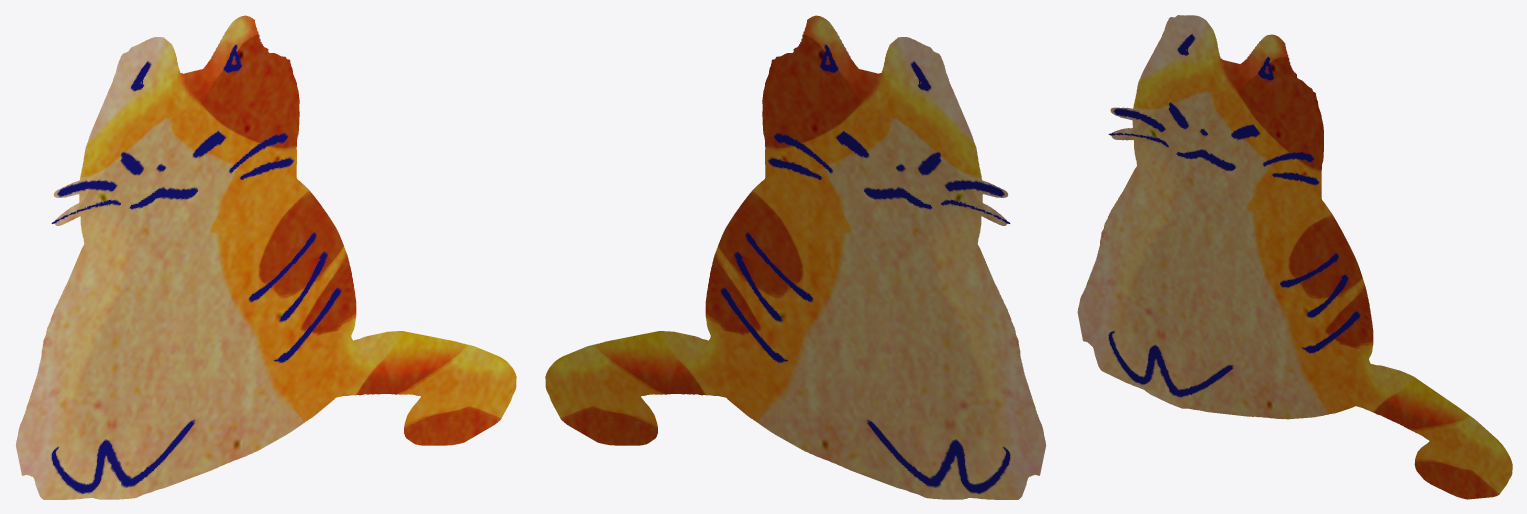
Rendered from animal_01.fbx.
3 renders of one model, left to right at view 1: azimuth 30°, elevation 25°; view 2: azimuth 150°, elevation 25°; view 3: azimuth 330°, elevation 25°, orthographic. The views are drawn at different scales.
Parts seen in each view (by area): view 1: animal_01; view 2: animal_01; view 3: animal_01.
Boxes of the visible parts, x1=… form: animal_01: x1=15, y1=15, x2=516, y2=499; animal_01: x1=545, y1=15, x2=1046, y2=499; animal_01: x1=1077, y1=15, x2=1512, y2=499.
Bounding box in the file's own units: 89.2 × 82.26 × 9.81e-06.
Materials: 1 (1 with a texture image).
